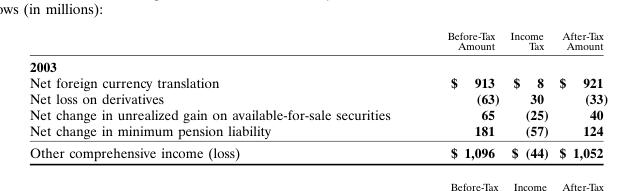table: (28, 29, 607, 160)
table column: (28, 29, 418, 160), (418, 29, 504, 160), (553, 29, 607, 160), (504, 29, 553, 160)
table column header: (28, 29, 607, 54)
table projected row header: (28, 54, 607, 73)
table row: (28, 29, 607, 54), (28, 54, 607, 73), (28, 122, 607, 141), (28, 141, 607, 160), (28, 73, 607, 90), (28, 90, 607, 106), (28, 106, 607, 122)
